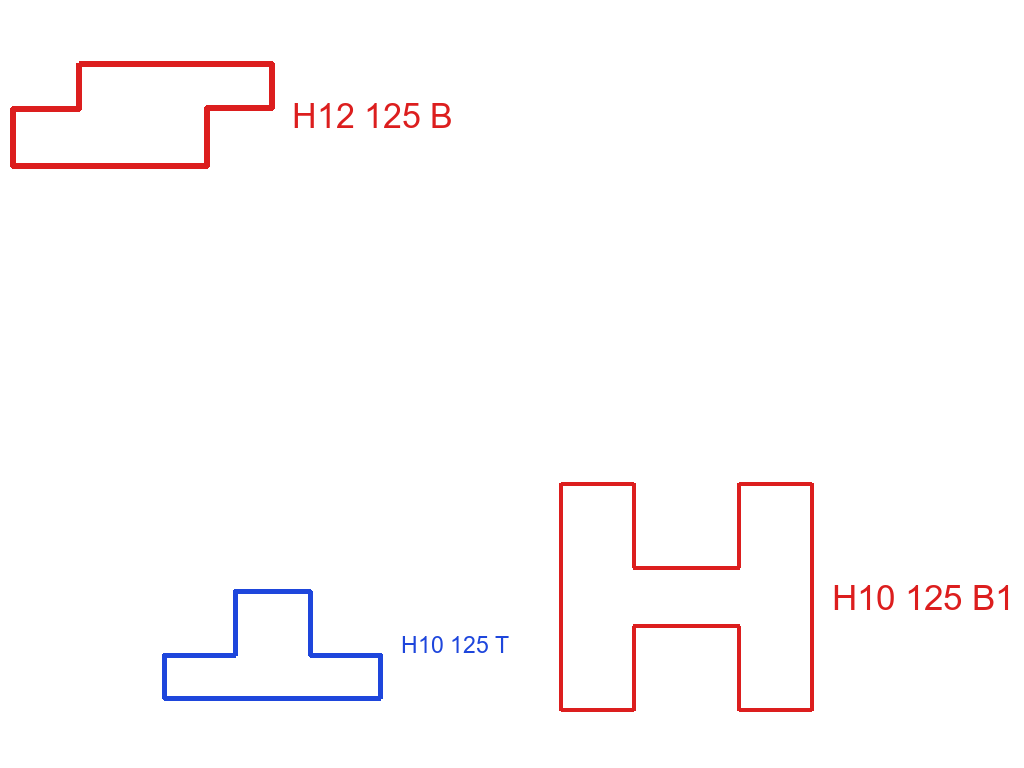shape: (557, 480, 816, 714), (9, 59, 277, 172), (160, 587, 385, 703)
text: (830, 583, 1016, 612), (290, 101, 455, 130), (399, 634, 511, 655)
